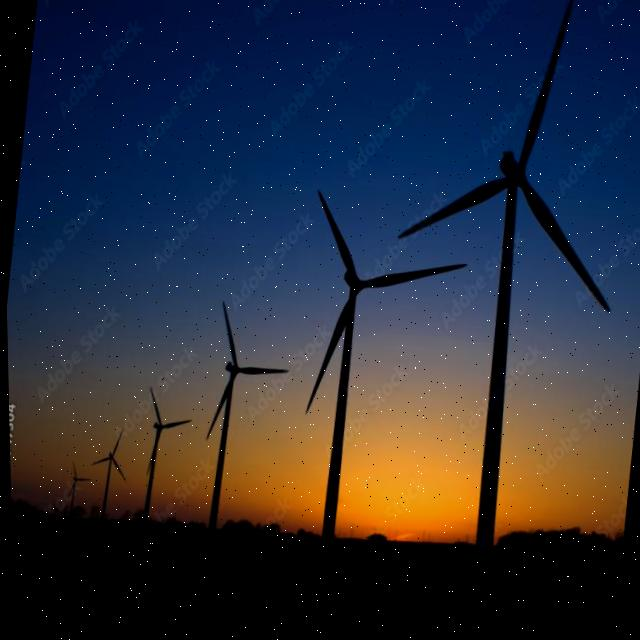solid-blade: (519, 188, 607, 320), (518, 8, 571, 178), (398, 186, 507, 243), (304, 308, 346, 416), (361, 272, 464, 293)
wind-turbine: (398, 8, 608, 561), (304, 196, 463, 549), (203, 305, 285, 532), (90, 430, 123, 521)
